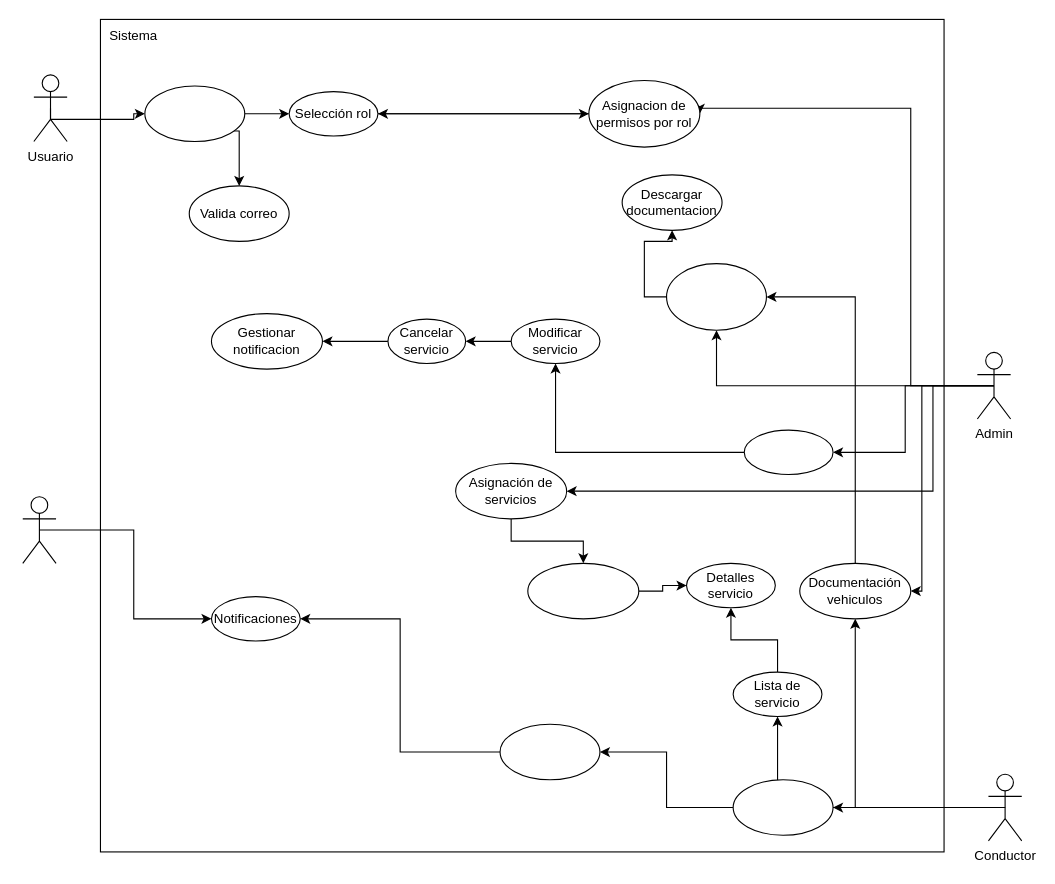
The diagram is 1055 pixels wide and 884 high, and some of its shapes have lost their labels. The shapes that lost their labels are listed below. From the top down, each one's centre as x and y in pixels, then its label:
(194,113): Iniciar sesion/register
(715,296): Generar documentacion
(788,452): Solicitar Servicio
(39,529): Cliente
(583,590): Conductores disponibles
(549,751): Solo si hay una alerta
(782,807): Notificaciones de alerta
